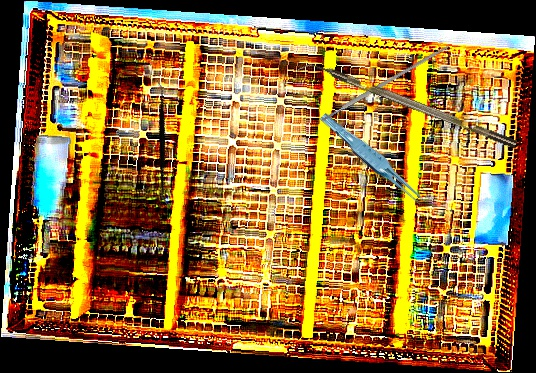Chopper: (296, 54, 518, 160)
Scalpel Handle: (319, 43, 451, 123)
Spatula Surgical: (105, 79, 222, 207)
Tissue Forceps: (318, 105, 429, 215)
